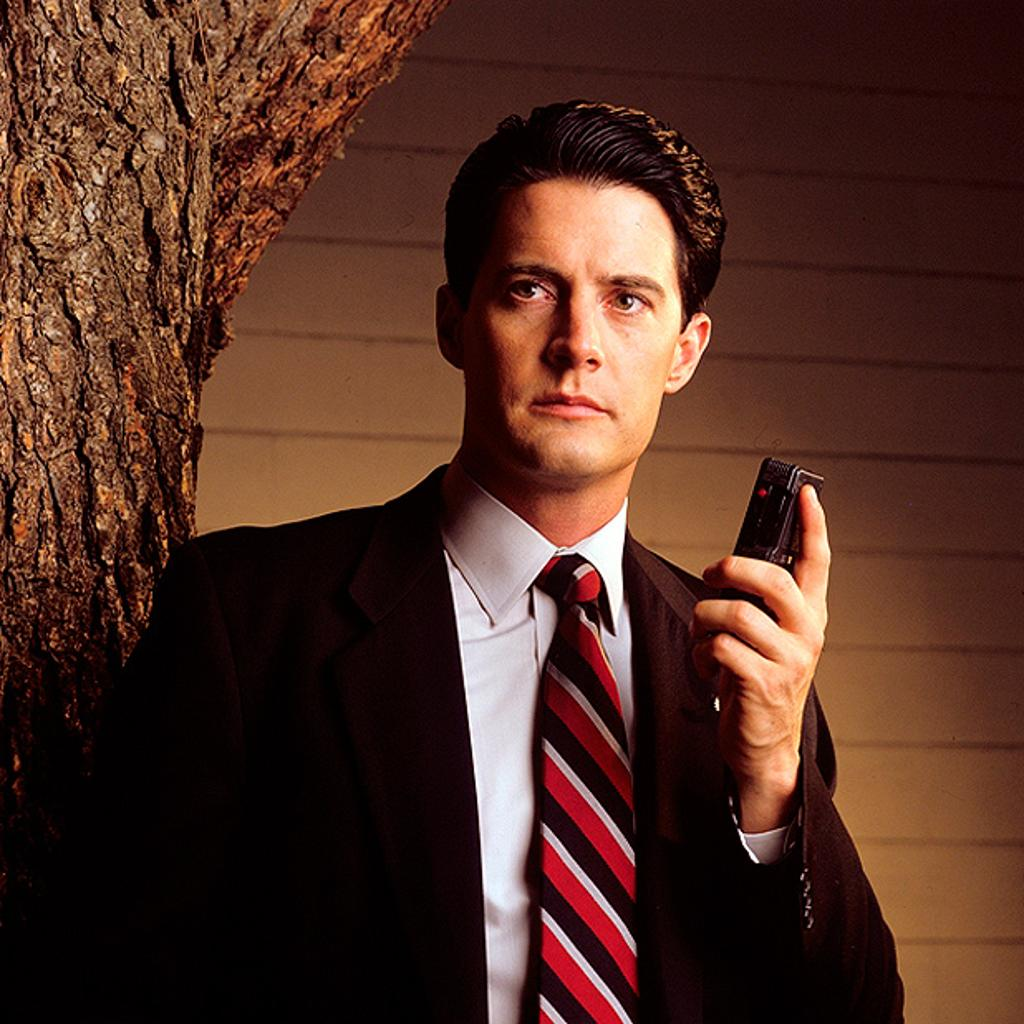face: (480, 174, 680, 478)
